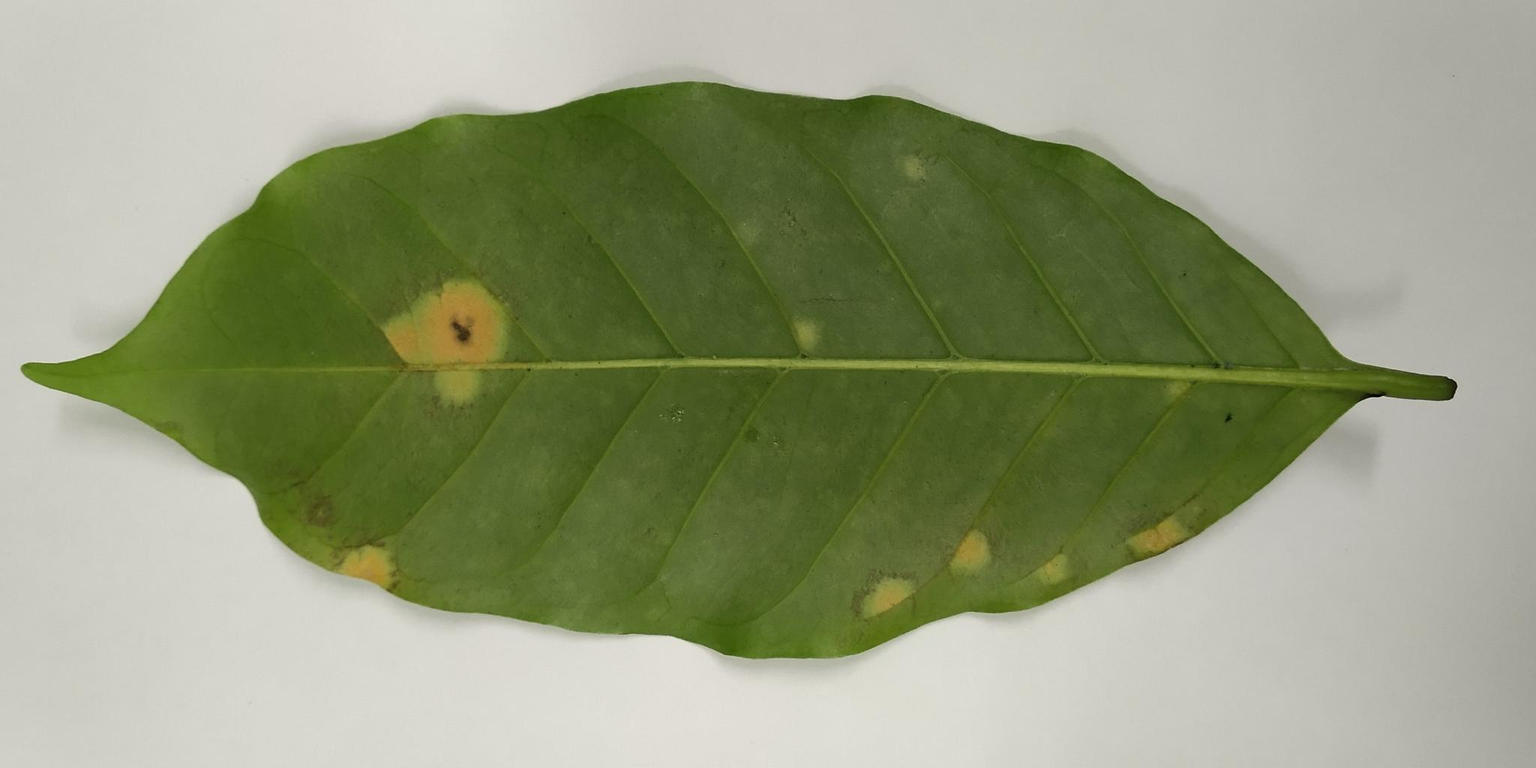Rust: (368, 261, 525, 420)
